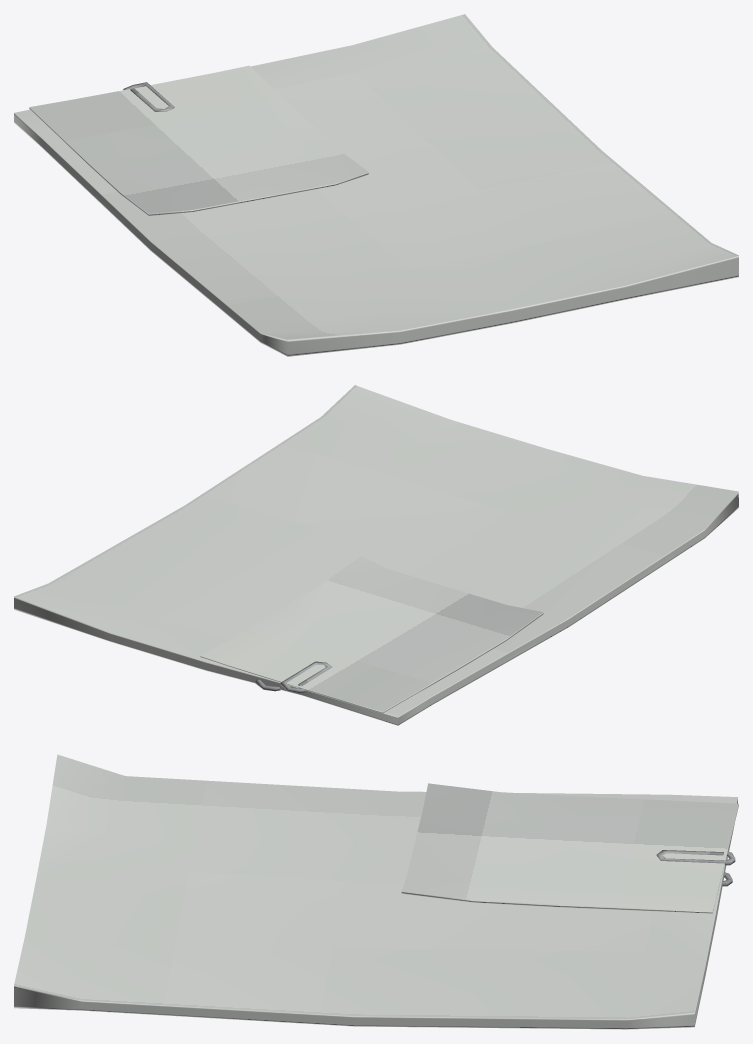
File: a_sch_entrance01_obj_paper04.gltf
3 views of the same model, one above another, from view 1: azimuth 30°, elevation 25°; view 2: azimuth 150°, elevation 25°; view 3: azimuth 270°, elevation 25° (orthographic). The views are drawn at different scales.
Parts seen in each view (by area): view 1: a_sch_entrance01_obj_paper04_mesh_shape:a_sch_office02_paper; view 2: a_sch_entrance01_obj_paper04_mesh_shape:a_sch_office02_paper; view 3: a_sch_entrance01_obj_paper04_mesh_shape:a_sch_office02_paper.
Boxes of the visible parts, x1=… form: a_sch_entrance01_obj_paper04_mesh_shape:a_sch_office02_paper: x1=14, y1=14, x2=738, y2=356; a_sch_entrance01_obj_paper04_mesh_shape:a_sch_office02_paper: x1=14, y1=385, x2=738, y2=725; a_sch_entrance01_obj_paper04_mesh_shape:a_sch_office02_paper: x1=14, y1=754, x2=738, y2=1029.
Bounding box in the file's own units: 0.246 × 0.0173 × 0.3042.
1 material, 1 textured.
